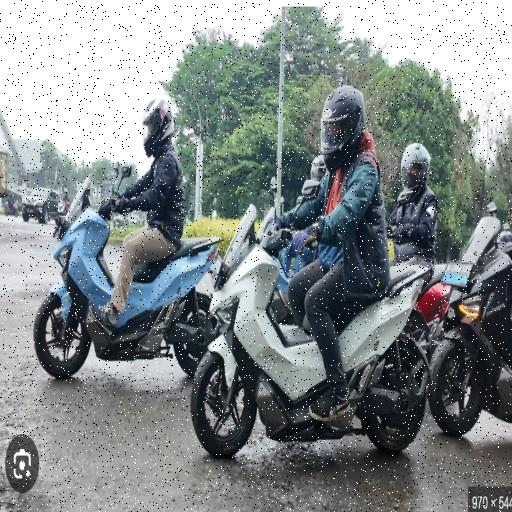Helmet: (320, 86, 365, 169), (143, 99, 174, 157), (401, 143, 430, 191)
Motor: (191, 204, 431, 456), (34, 176, 221, 378), (428, 215, 512, 436)
